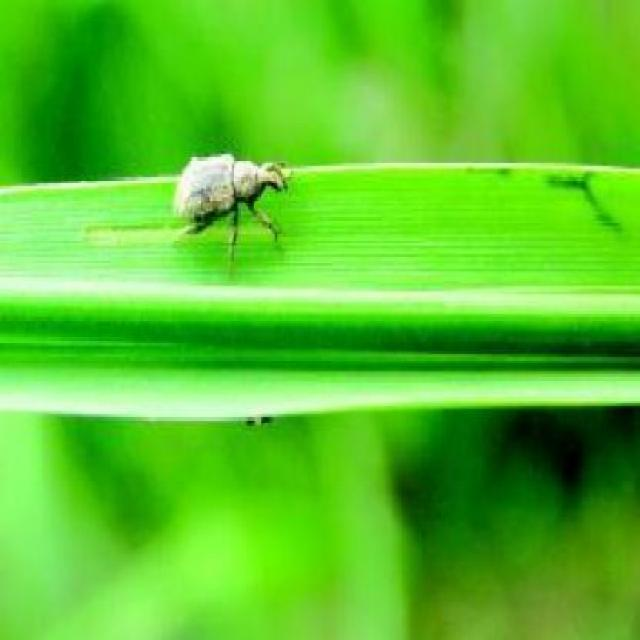rice-bug: (174, 152, 294, 257)
